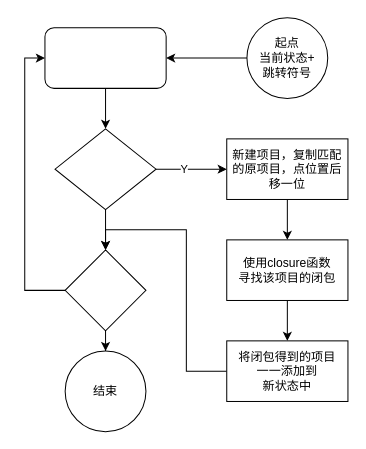
The diagram is 366 pixels wide and 449 high, and some of its shapes have lost their labels. The centre of each missing label's shape, as x and y in pixels:
"已到达最后 一个项目" goes at point (105, 290).
"当前 项目位置 和跳转符号 匹配" goes at point (105, 169).
"遍历状态" goes at point (105, 57).
